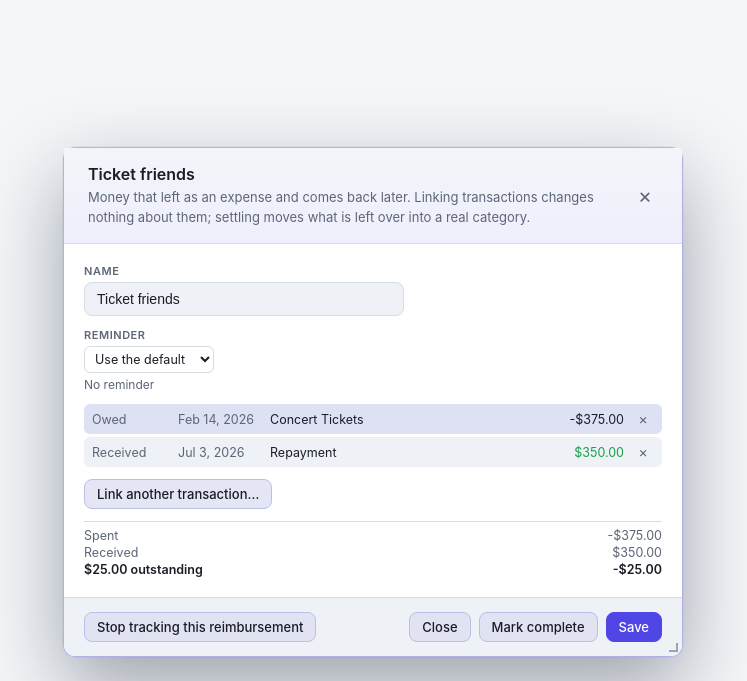
completing › explains what completing a shortfall does
Step 1. Click the button "Mark complete" → click(538, 627), box [479,612,598,642]
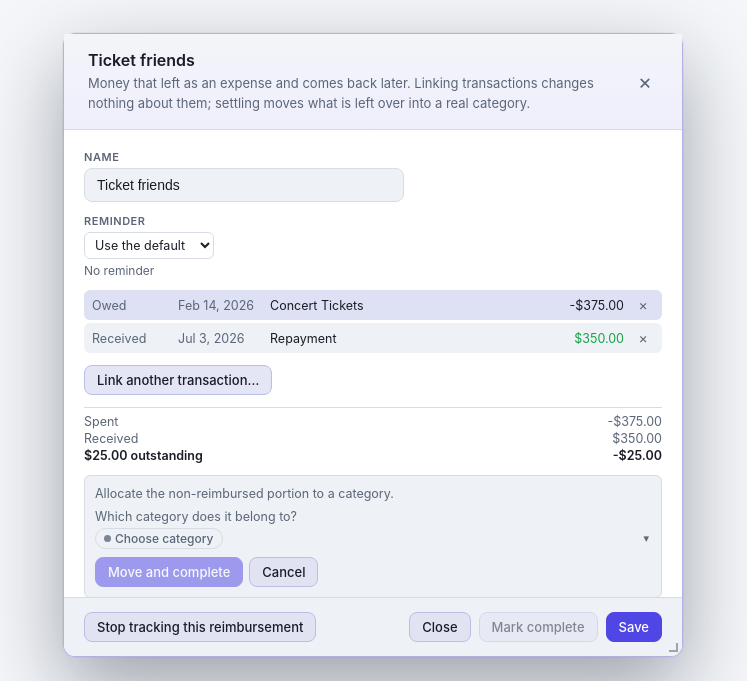
Expected: the text "Allocate the non-reimbursed portion to a category." is shown, [95,486,394,501]
